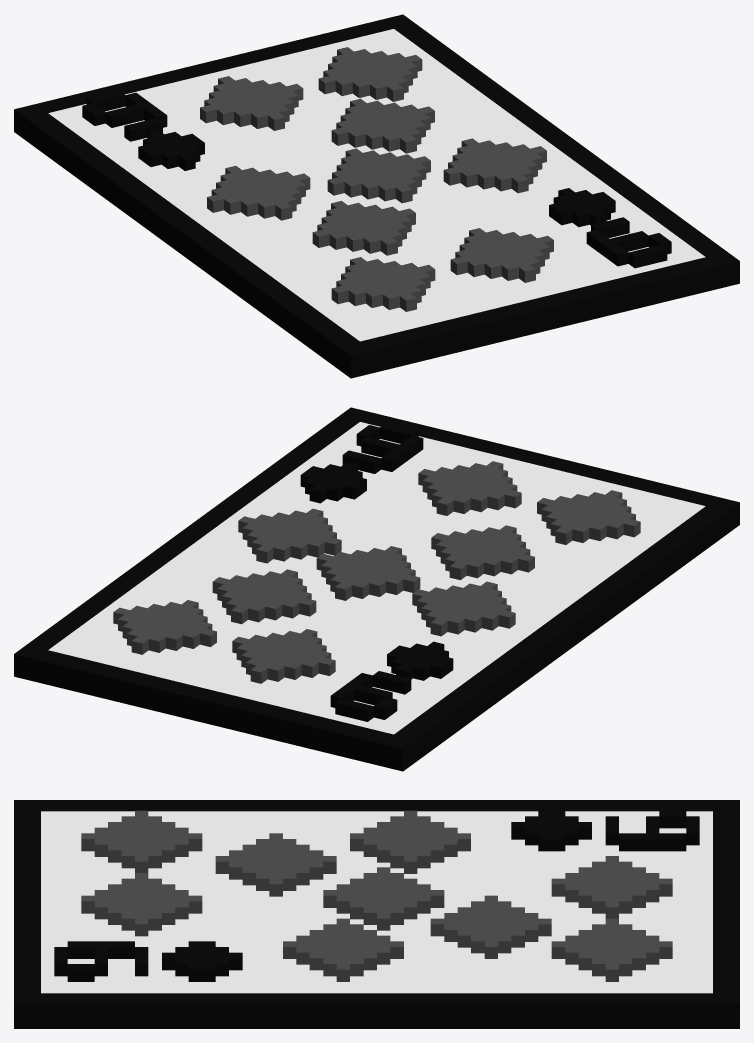
Rendered from Dia9.obj.
3 views of the same model, one above another, from view 1: azimuth 30°, elevation 25°; view 2: azimuth 150°, elevation 25°; view 3: azimuth 270°, elevation 25° (orthographic). The views are drawn at different scales.
Bounding box in the file's own units: 36 × 3 × 54.
1 material, 1 textured.
